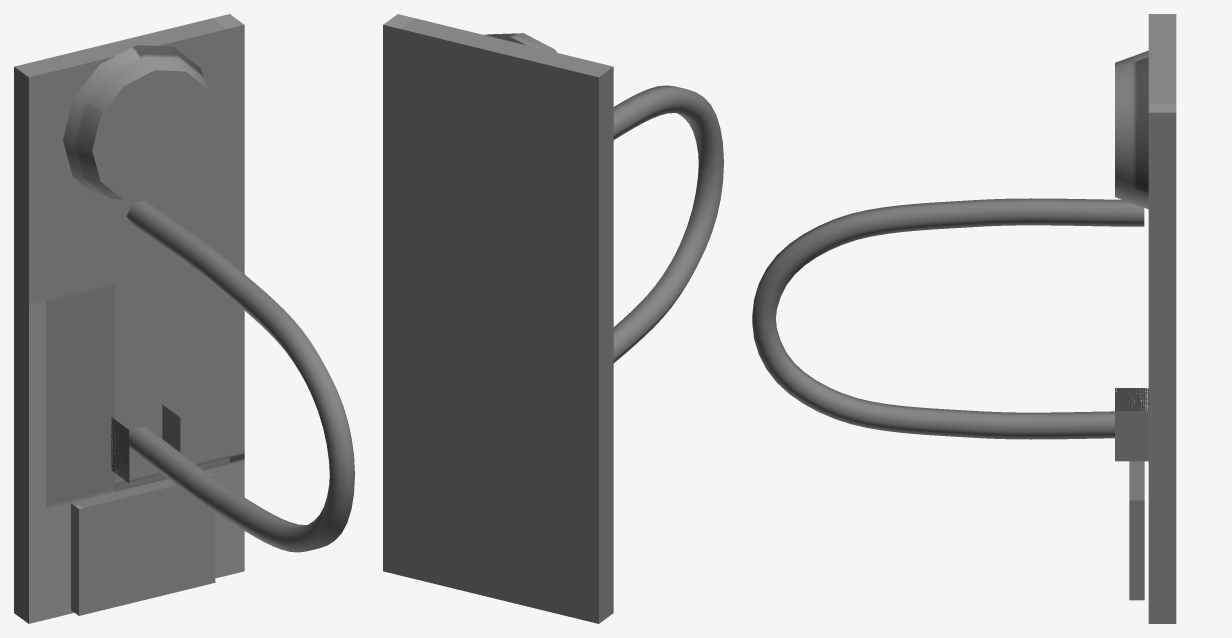
The picture shows the model from 3 angles, left to right: view 1: azimuth 30°, elevation 25°; view 2: azimuth 150°, elevation 25°; view 3: azimuth 270°, elevation 25°; orthographic projection. The views are drawn at different scales.
Size of the model in its own units: 0.38 by 0.93 by 0.7591.
